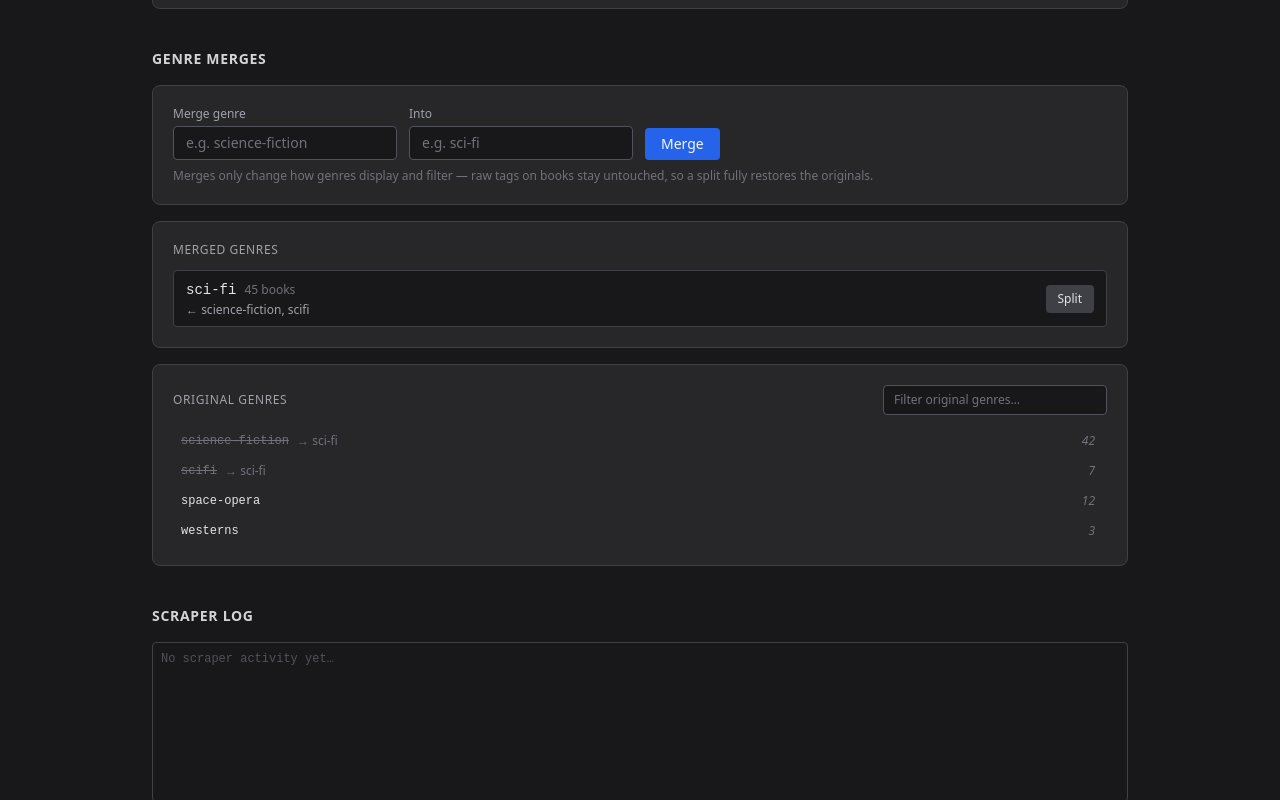
Test: Genre Merges — overview › filters the original list
The image size is (1280, 800).
(page scrolled)
Type "space" into the field with placeholder "Filter original genres…" at (995, 400), box x1=883 y1=385 x2=1107 y2=415
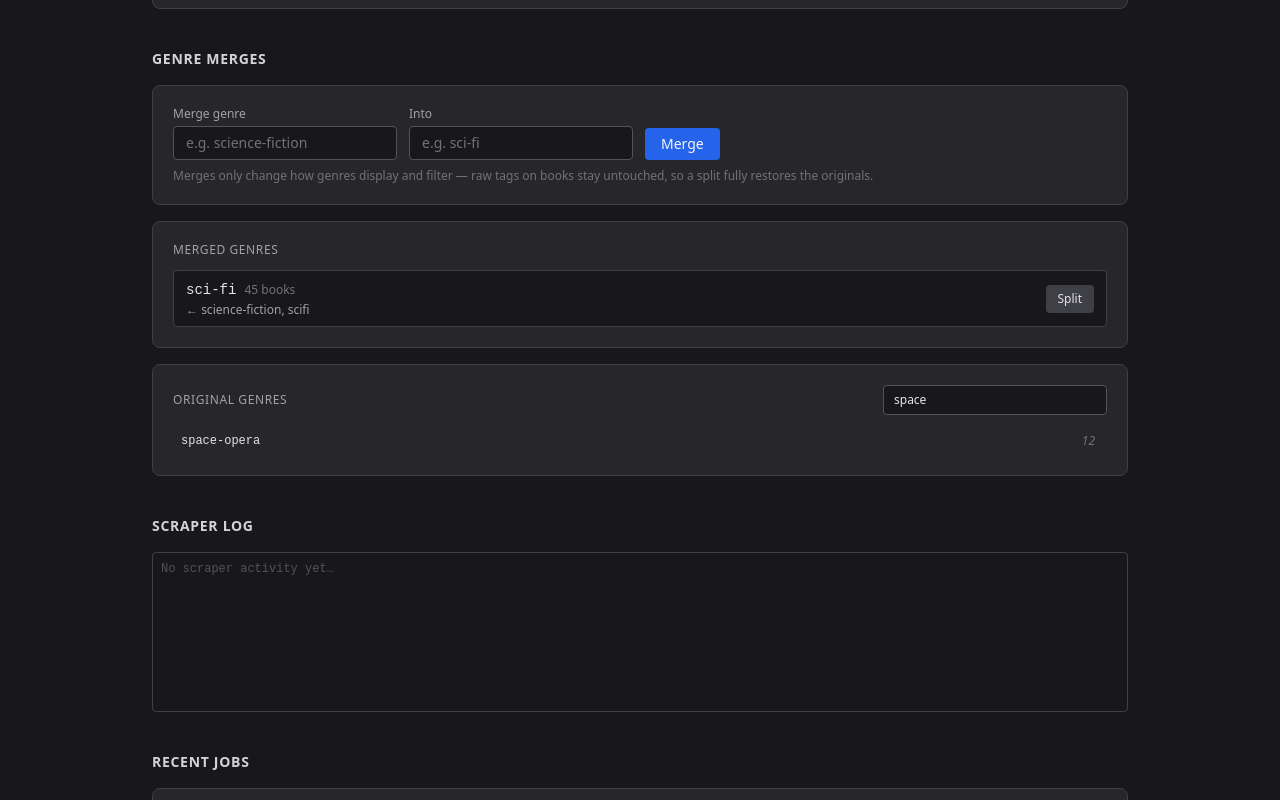
Expected: the text "space-opera" is shown, x1=181 y1=433 x2=260 y2=449
Now the button "westerns" is gone
